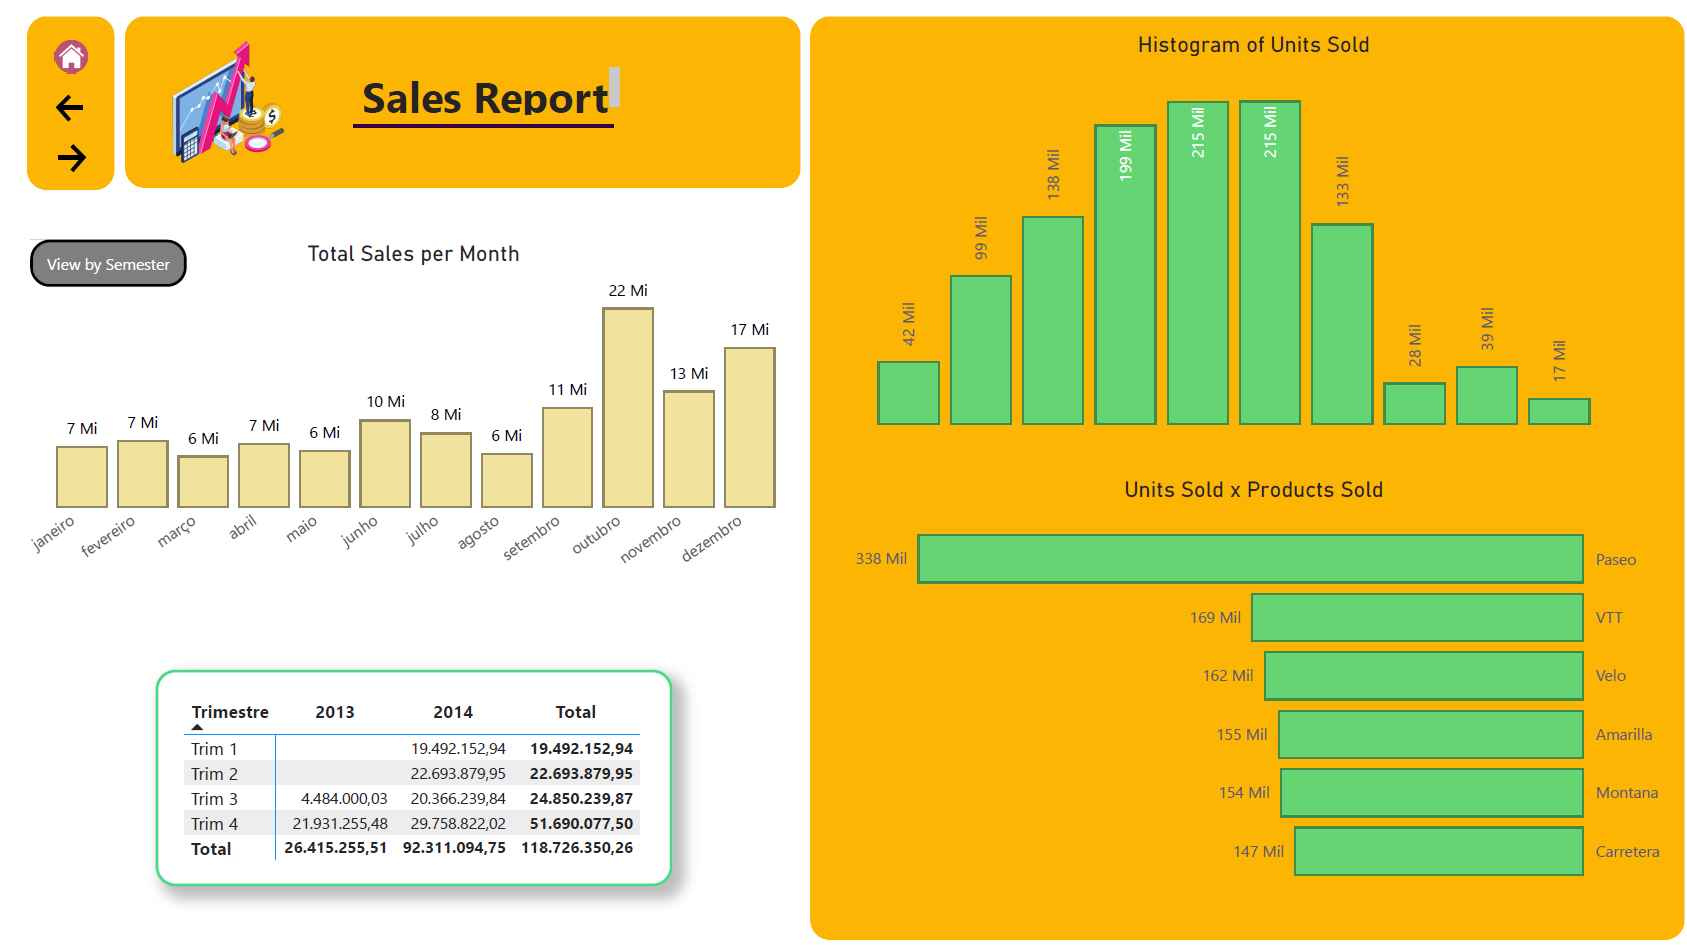

This screenshot's page, from the dashboard's own definition file:
{"tool":"powerbi","page":{"name":"Details","canvas":[1280,720],"ordinal":2},"visuals":[{"type":"shape","box":[85,10,515,130.8],"z":0,"group":"g3"},{"type":"shape","box":[607.5,10,666.7,704.2],"z":0},{"type":"shape","box":[259.5,77.5,198.5,32.5],"z":0,"group":"g1"},{"type":"group","id":"g1","title":"Title","box":[105.7,24.2,361.1,101.7],"z":500,"group":"g3"},{"type":"shape","box":[10.8,10,66.7,132.5],"z":1000,"group":"g4"},{"type":"clusteredColumnChart","title":"Histogram of Units Sold","fields":{"Category":["financials.Buckets"],"Y":["Sum(financials.Units Sold)"]},"box":[620.8,20.8,639.2,310.8],"z":1000},{"type":"textbox","box":[261,43.2,205.8,45.8],"z":1000,"group":"g1"},{"type":"image","box":[105.7,24.2,115.7,101.7],"z":1500,"group":"g1"},{"type":"actionButton","title":"Botão - Next","box":[29.1,103.3,30,30],"z":1500,"group":"g4"},{"type":"columnChart","title":"Total Sales per Month","fields":{"Y":["Sum(financials. Sales)"],"Category":["financials.Date.Variation.Hierarquia de datas.Mês"]},"box":[10.8,180,589.2,265],"z":1500,"group":"g2"},{"type":"actionButton","title":"Botão - Back","box":[29.1,65.8,29.2,30],"z":1750,"group":"g4"},{"type":"image","box":[26.6,20.8,35,41.7],"z":2000,"group":"g4"},{"type":"pivotTable","fields":{"Rows":["financials.Date.Variation.Hierarquia de datas.Trimestre"],"Columns":["financials.Date.Variation.Hierarquia de datas.Ano"],"Values":["Sum(financials. Sales)"]},"box":[108.3,507.5,394.2,165],"z":2000},{"type":"actionButton","title":"Botão - Home","box":[31.6,25.8,24.2,26.7],"z":3000,"group":"g4"},{"type":"group","id":"g2","title":"Sales x Time","box":[10.8,180,589.2,265],"z":3000},{"type":"group","id":"g3","title":"Home","box":[85,10,515,130.8],"z":4000},{"type":"actionButton","title":"Botão - By Semester","box":[13.1,180,119.2,35.8],"z":4000,"group":"g2"},{"type":"group","id":"g4","title":"Nav","box":[10.8,10,66.7,132.5],"z":5000},{"type":"clusteredBarChart","title":" Units Sold x Products Sold","fields":{"Y":["Sum(financials.Units Sold)"],"Category":["financials.Product"]},"box":[620.8,360,639.2,333.3],"z":6000}]}

Visuals, with their boxes in screenshot pixels (x1, y1, x2, y2), scaled from the page's 1280x720 canvas onto the 1687x945 screenshot:
shape: bbox=(112, 13, 791, 185)
shape: bbox=(801, 13, 1679, 937)
shape: bbox=(342, 102, 604, 144)
"Title" group: bbox=(139, 32, 615, 165)
shape: bbox=(14, 13, 102, 187)
"Histogram of Units Sold" clusteredColumnChart: bbox=(818, 27, 1661, 435)
textbox: bbox=(344, 57, 615, 117)
image: bbox=(139, 32, 292, 165)
"Botão - Next" actionButton: bbox=(38, 136, 78, 175)
"Total Sales per Month" columnChart: bbox=(14, 236, 791, 584)
"Botão - Back" actionButton: bbox=(38, 86, 77, 126)
image: bbox=(35, 27, 81, 82)
pivotTable - financials.Date.Variation.Hierarquia de datas.Trimestre x financials.Date.Variation.Hierarquia de datas.Ano: bbox=(143, 666, 662, 883)
"Botão - Home" actionButton: bbox=(42, 34, 74, 69)
"Sales x Time" group: bbox=(14, 236, 791, 584)
"Home" group: bbox=(112, 13, 791, 185)
"Botão - By Semester" actionButton: bbox=(17, 236, 174, 283)
"Nav" group: bbox=(14, 13, 102, 187)
" Units Sold x Products Sold" clusteredBarChart: bbox=(818, 472, 1661, 910)
